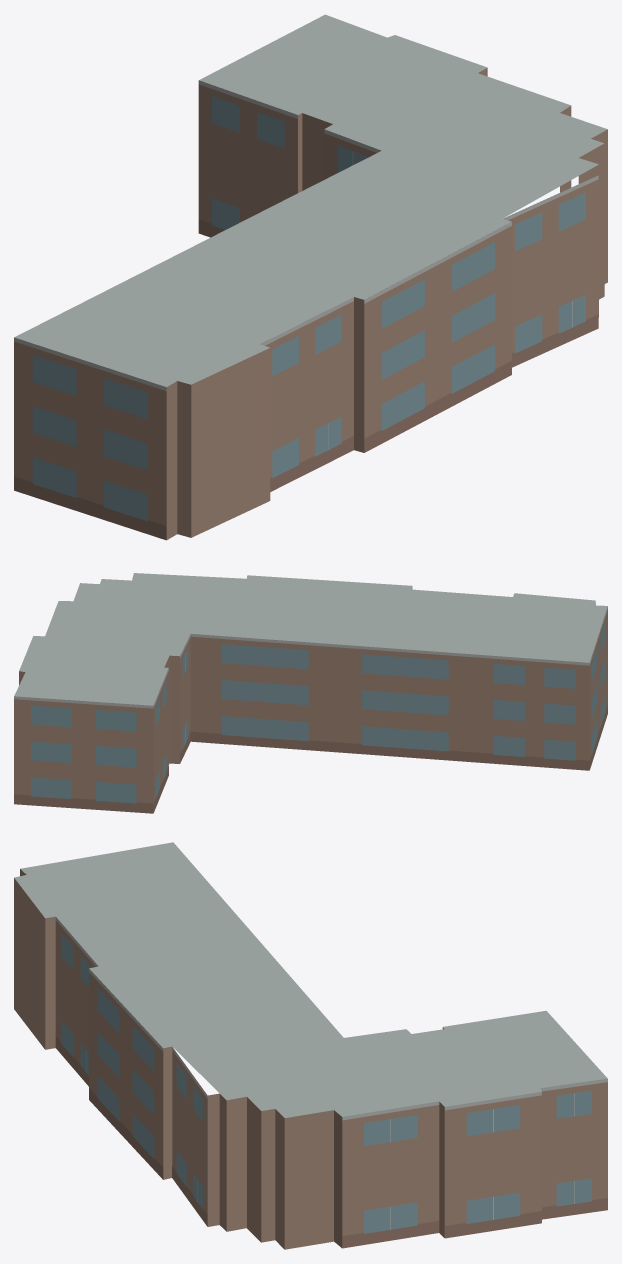
The model's file is survey-upis-32843155.glb.
The picture shows the model from 3 angles, top to bottom: view 1: azimuth 30°, elevation 25°; view 2: azimuth 150°, elevation 25°; view 3: azimuth 270°, elevation 25°; orthographic projection. The views are drawn at different scales.
Visible parts, largest first — view 1: survey-upis-32843155.tmp; view 2: survey-upis-32843155.tmp; view 3: survey-upis-32843155.tmp.
Boxes of the visible parts, bbox=[...] form: survey-upis-32843155.tmp: bbox=[14, 14, 607, 540]; survey-upis-32843155.tmp: bbox=[14, 573, 607, 813]; survey-upis-32843155.tmp: bbox=[14, 842, 607, 1249].
Size of the model in its own units: 41.18 by 9.15 by 37.45.
